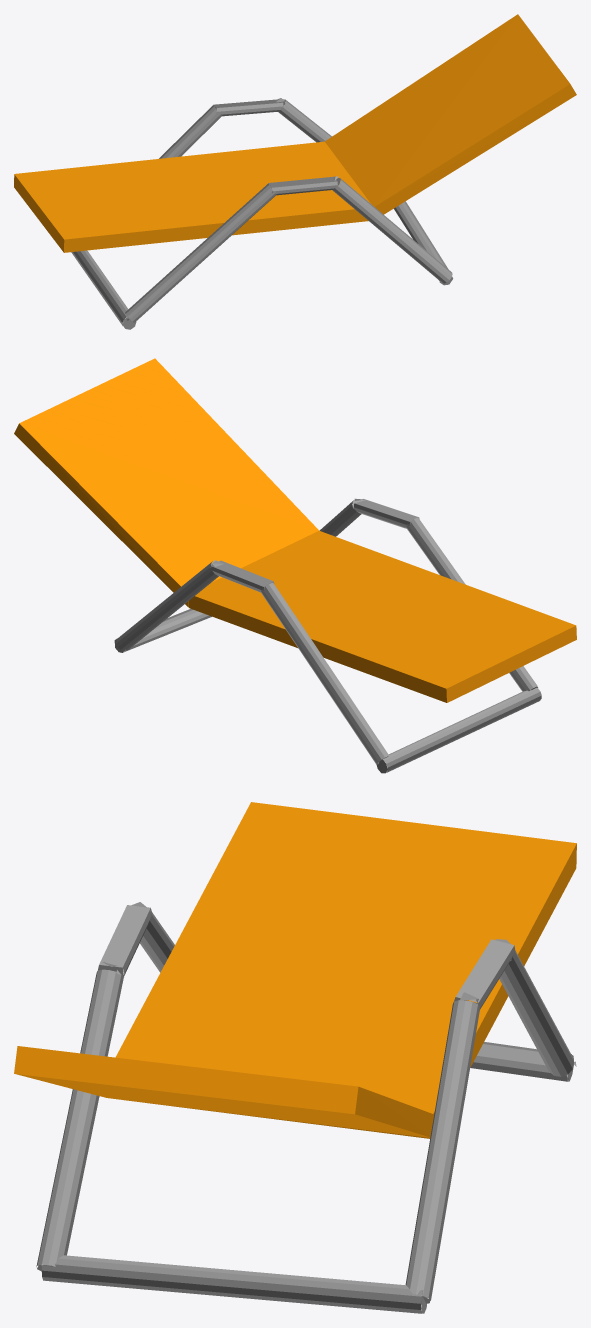
The model's file is chaise.glb.
3 views of the same model, one above another, from view 1: azimuth 30°, elevation 25°; view 2: azimuth 150°, elevation 25°; view 3: azimuth 270°, elevation 25° (orthographic). The views are drawn at different scales.
Visible parts, largest first — view 1: group294144946; view 2: group294144946; view 3: group294144946.
Boxes of the visible parts, left/top/right/bottom form: group294144946: left=14, top=14, right=576, bottom=329; group294144946: left=14, top=358, right=576, bottom=773; group294144946: left=14, top=802, right=576, bottom=1313.
Size of the model in its own units: 1.9 by 0.7049 by 0.984.
